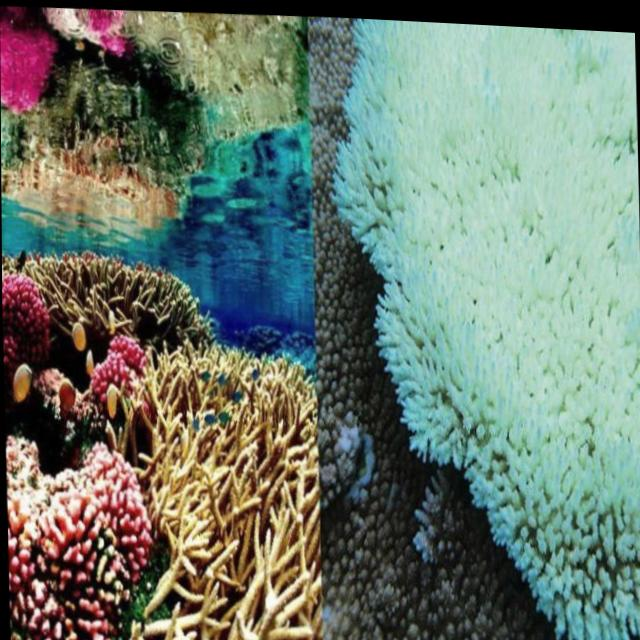Bleached Coral: (354, 28, 638, 638)
Healthy Coral: (8, 255, 296, 640)
